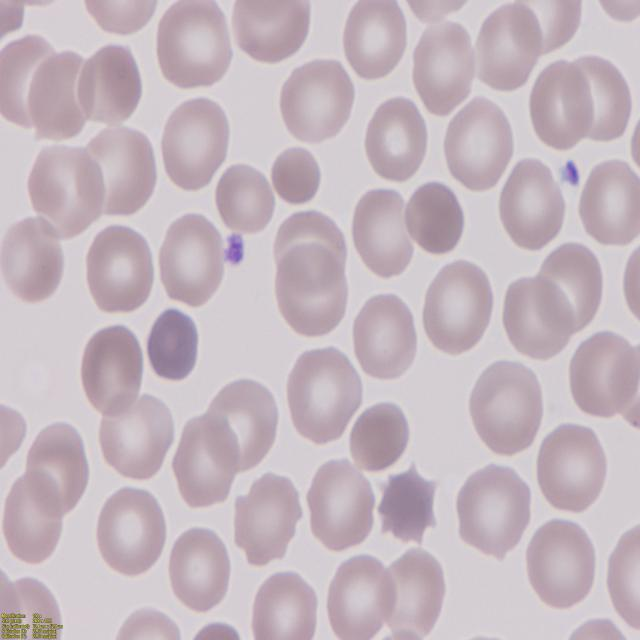Platelets: (224, 235, 248, 272)
RBC: (418, 256, 501, 359), (284, 346, 366, 450), (464, 356, 544, 460), (96, 386, 179, 486), (452, 462, 536, 560), (441, 96, 519, 196), (154, 0, 236, 93), (303, 454, 379, 554), (92, 480, 168, 580), (157, 92, 232, 193), (536, 421, 613, 519), (524, 515, 600, 613), (27, 138, 106, 232), (154, 209, 227, 309), (85, 124, 161, 220), (278, 57, 357, 149), (173, 410, 244, 512), (495, 157, 568, 256), (83, 222, 158, 317), (274, 250, 349, 344), (472, 1, 546, 96), (410, 18, 481, 116), (236, 470, 306, 568), (498, 272, 574, 362), (348, 288, 419, 384), (568, 328, 640, 422), (536, 241, 608, 335), (271, 204, 350, 289), (2, 468, 68, 568), (80, 322, 148, 419), (323, 550, 396, 640), (526, 58, 594, 154), (350, 188, 418, 284), (166, 526, 236, 619), (570, 51, 638, 146), (364, 94, 434, 185), (574, 156, 640, 250), (381, 548, 448, 640), (342, 0, 414, 84), (0, 218, 68, 306), (81, 39, 148, 127), (227, 0, 313, 66), (246, 569, 322, 640), (376, 469, 442, 546), (214, 163, 275, 239), (349, 396, 409, 472), (604, 518, 640, 630), (520, 0, 583, 57), (82, 0, 164, 39), (109, 606, 186, 640), (588, 0, 640, 31), (562, 616, 628, 640)
Spherocyte: (402, 179, 468, 260), (143, 306, 202, 388), (270, 141, 326, 208)
